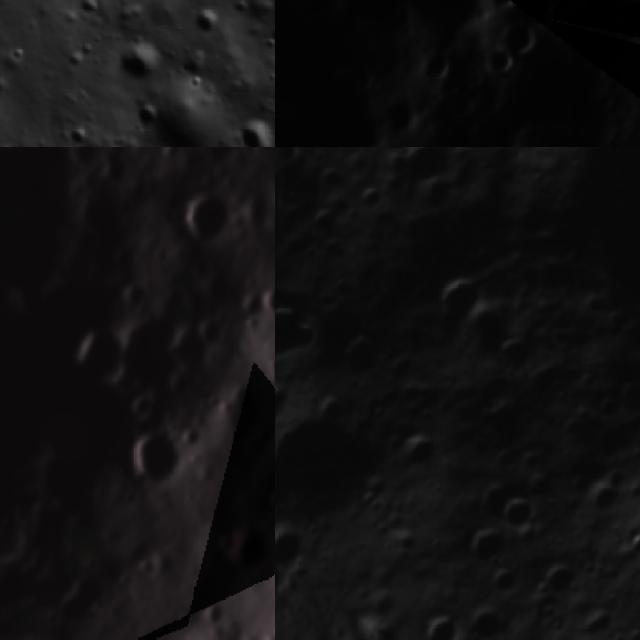crater: (275, 379, 406, 553), (93, 293, 209, 410), (60, 308, 142, 393), (165, 174, 248, 256), (275, 281, 339, 384), (322, 317, 401, 397), (418, 256, 494, 338), (113, 419, 192, 497), (375, 147, 470, 205), (449, 512, 516, 580), (528, 546, 595, 614), (214, 511, 275, 578), (109, 31, 172, 93), (490, 483, 552, 545), (569, 467, 629, 529), (457, 591, 522, 640), (220, 367, 274, 422), (488, 326, 542, 380), (275, 361, 306, 449), (483, 554, 534, 606), (178, 613, 275, 640), (190, 587, 240, 639), (407, 600, 469, 640), (488, 18, 548, 58), (484, 0, 572, 26), (91, 147, 142, 191), (229, 276, 275, 323), (191, 307, 237, 353), (115, 271, 160, 316), (231, 107, 275, 147), (476, 46, 521, 80), (60, 147, 109, 174), (249, 277, 275, 326), (616, 520, 640, 569), (127, 387, 158, 420), (262, 478, 275, 516)
